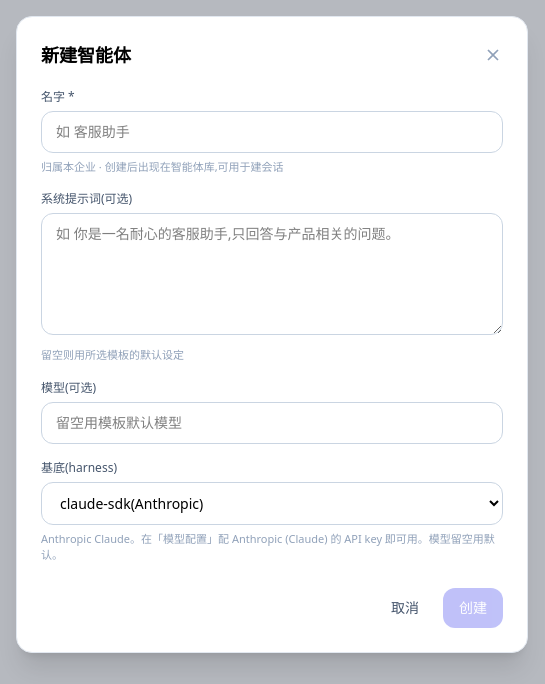
Scenario: 选任一 harness 仍不出现 API Key 字段
The width and height of the screenshot is (545, 684).
Select "minimax(MiniMax)" in the dropdown named "基底 harness" at (272, 503), box 41,482 -> 503,524
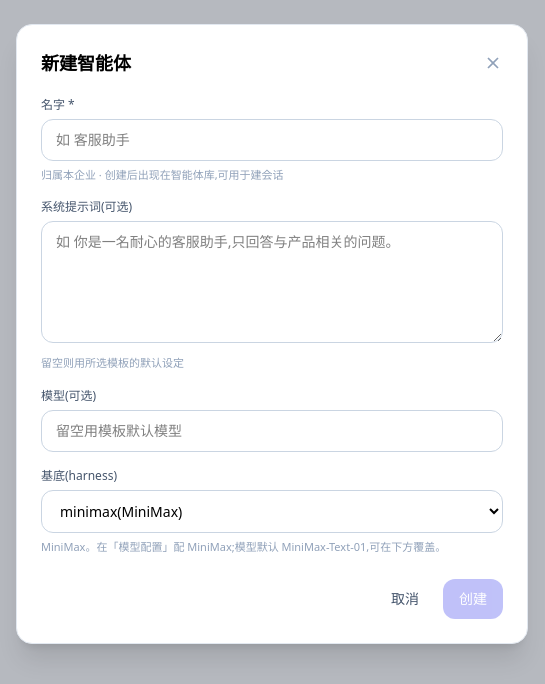
Expected: the text labelled "API Key *" is gone
